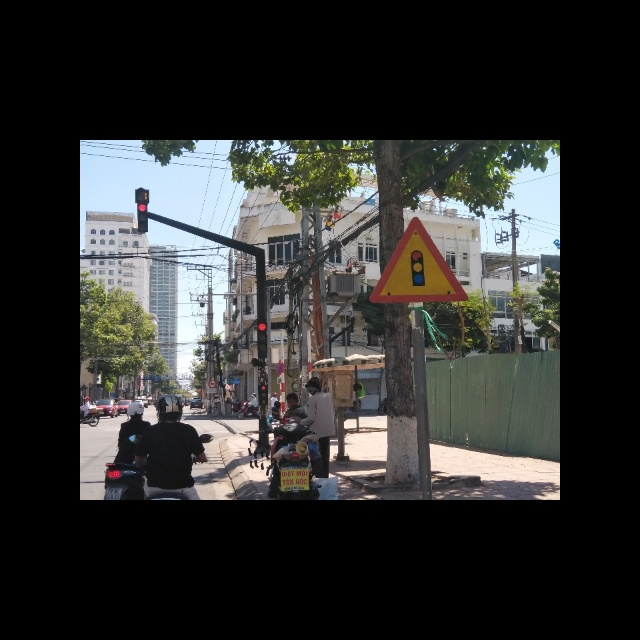Giao nhau có tín hiệu đèn: (368, 217, 472, 305)
Đèn đỏ: (258, 322, 268, 331)
